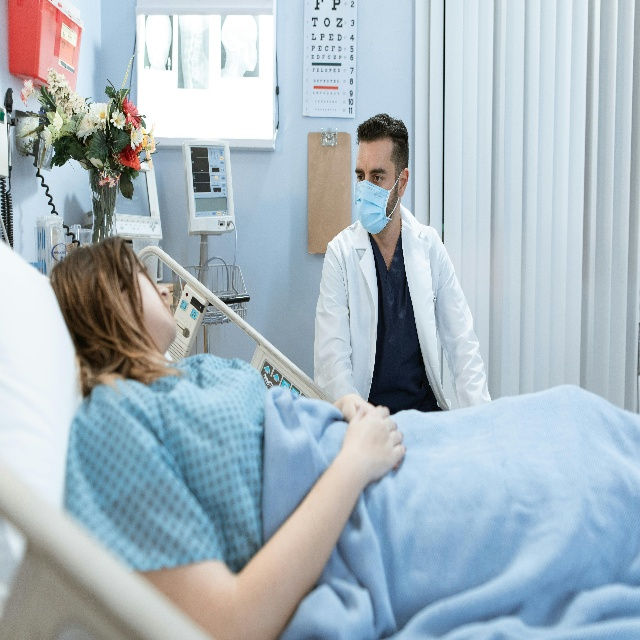Mascara: (354, 169, 404, 234)
Sin_guantes: (342, 396, 407, 486), (341, 390, 404, 472)
